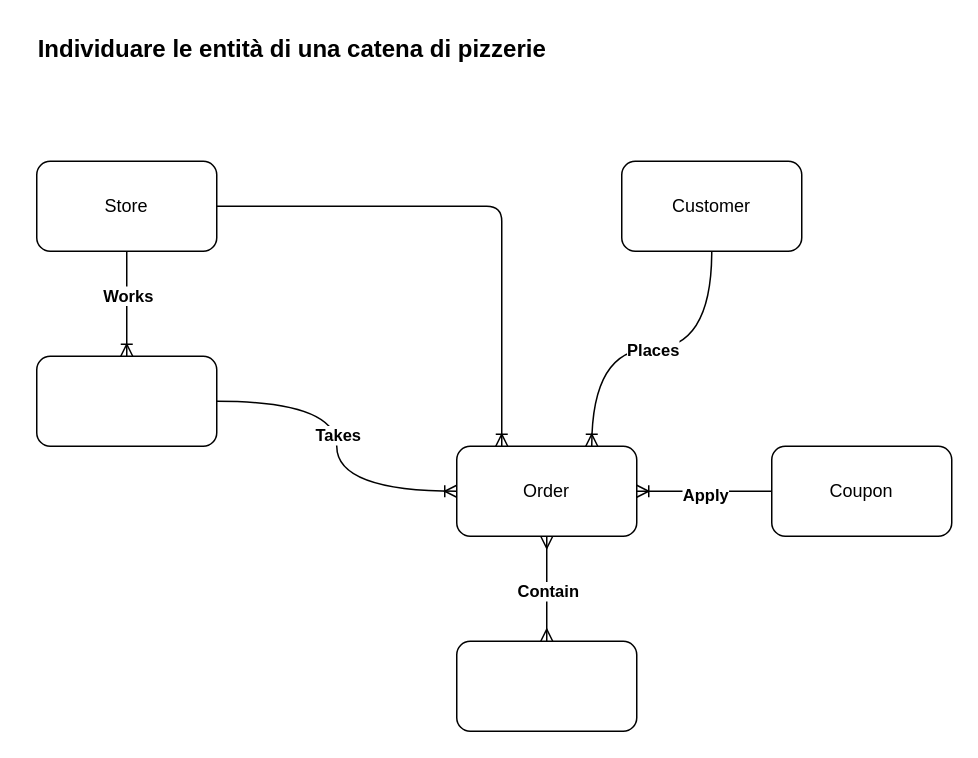
The diagram is 978 pixels wide and 758 high, and some of its shapes have lost their labels. The centre of each missing label's shape, as x and y in pixels:
"Employee" belongs at [126,400].
"Product" belongs at [546,685].
